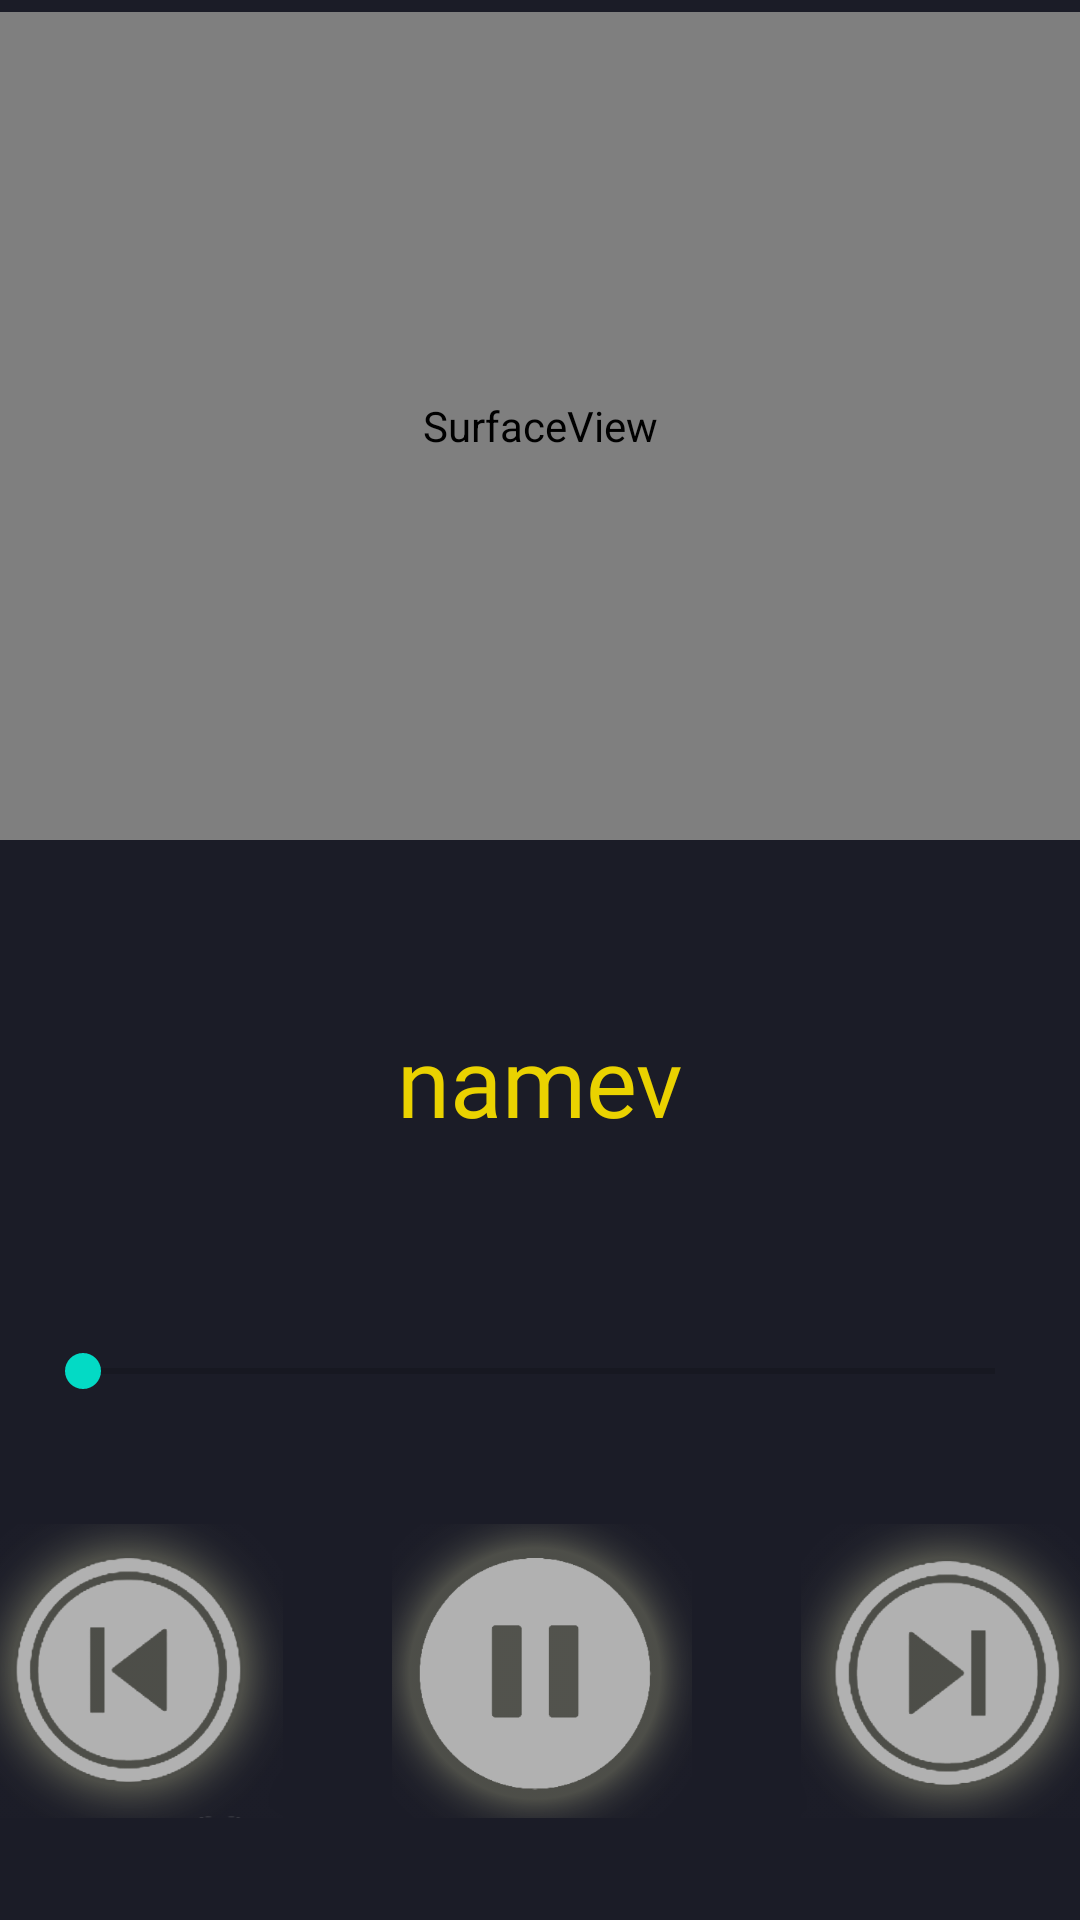

Where icons sit on this 1080x1920 app screen, as (x1, y1, x2, y2):
vidtog: (394, 1533, 675, 1814)
